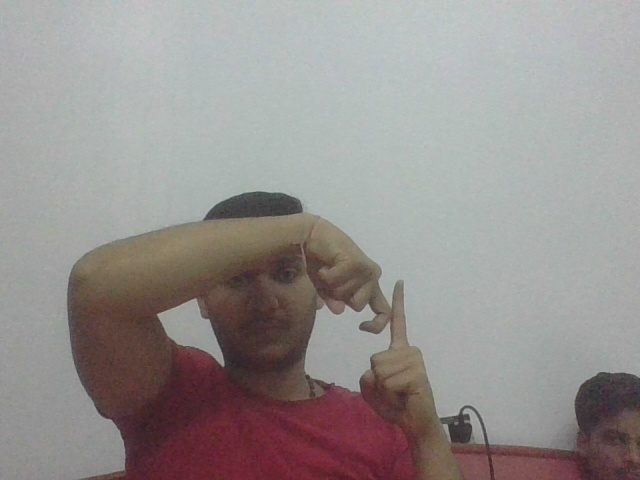K: (351, 268, 423, 362)
